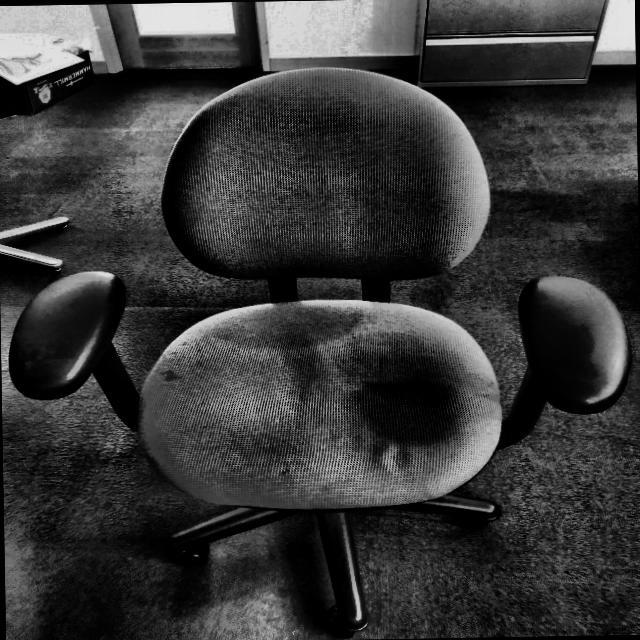chair: (4, 58, 640, 640)
